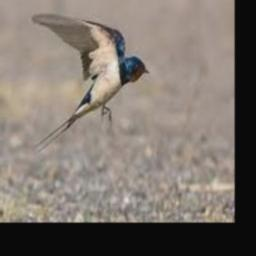Swallow: (31, 13, 149, 152)
